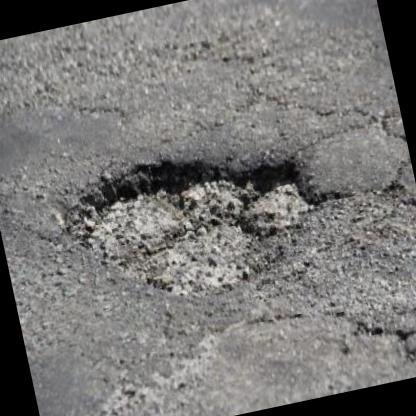pothole: (52, 124, 340, 326)
